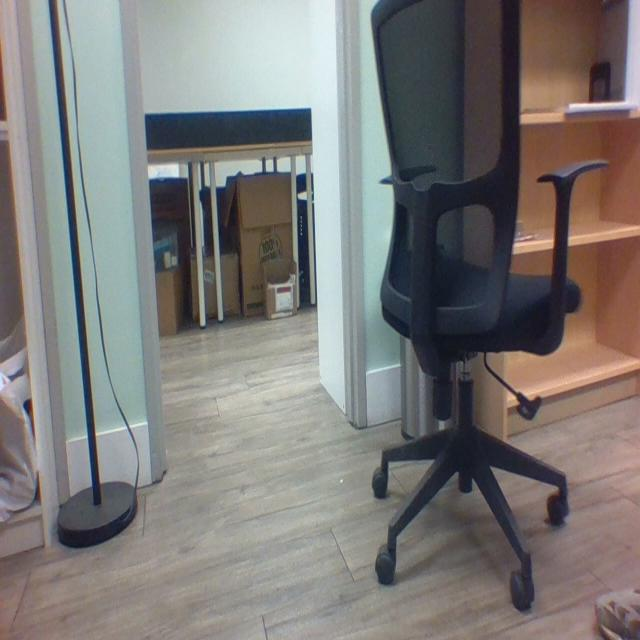black-chair: (367, 0, 610, 605)
